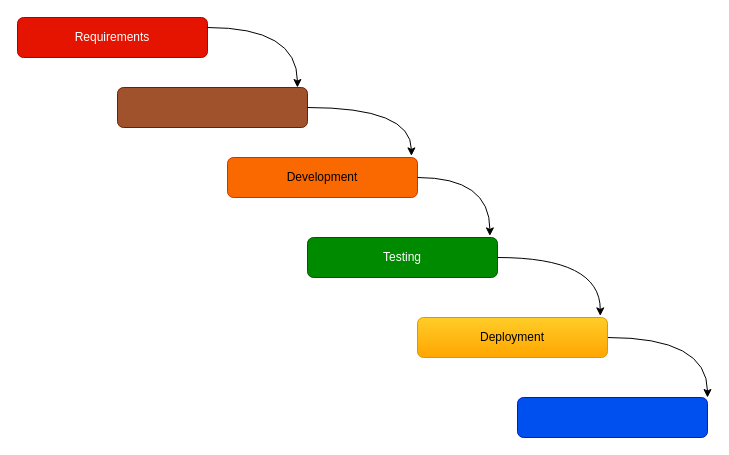
Image size: 729x455. Some labels were removed from this diagram. Here are the shapes that lost their labels. From the top down, the centre of each, then its label:
At point 212,107: "Design".
At point 612,417: "Maintenace".
